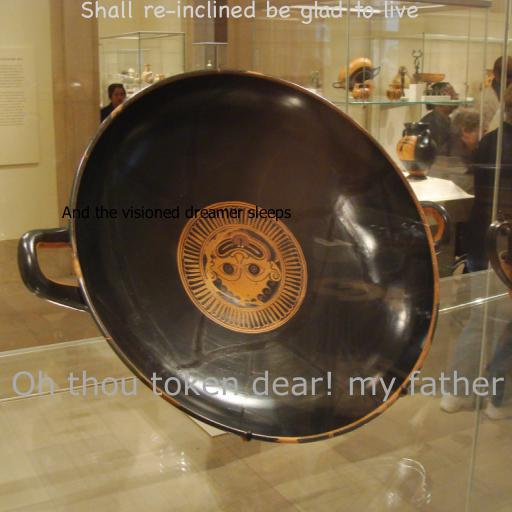Chalkboard: (79, 0, 419, 25)
Tahoma: (61, 205, 291, 222)
Verdana: (10, 370, 504, 402)
